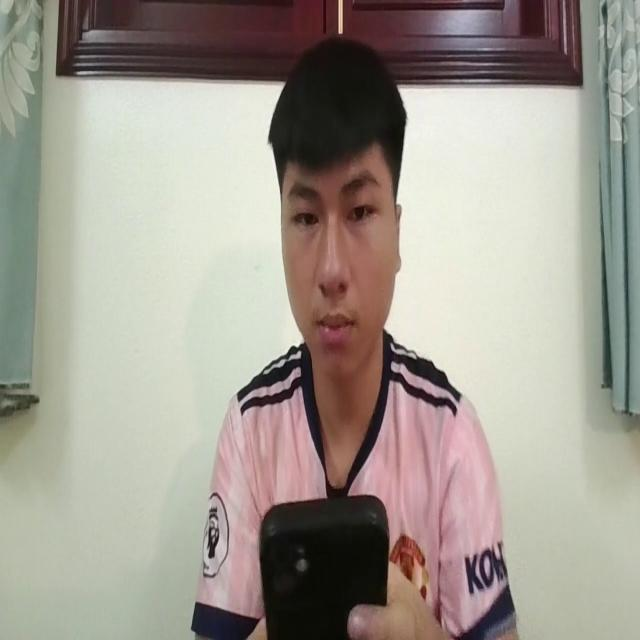phone: (259, 490, 388, 631)
student: (189, 32, 513, 640)
